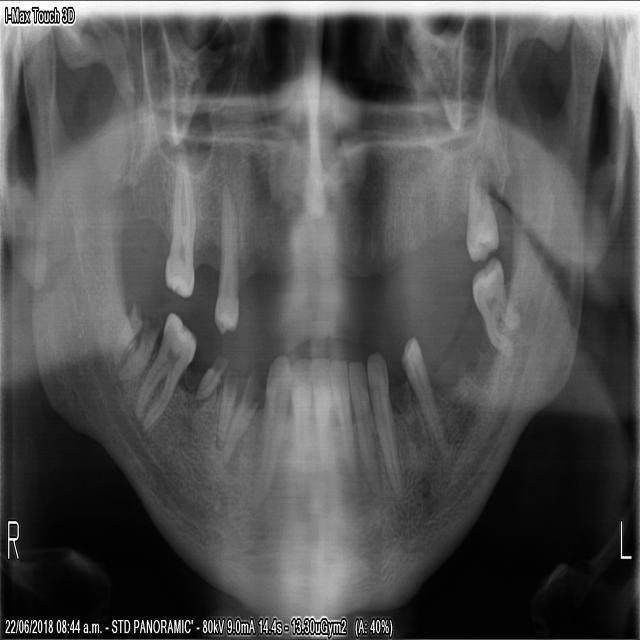LCD: (363, 346, 402, 512)
LID: (345, 355, 380, 498), (326, 355, 355, 483)
LMD: (468, 252, 519, 360)
LMU: (462, 156, 499, 265)
LPMD: (397, 331, 448, 462)
RCD: (251, 349, 290, 507)
RID: (284, 353, 310, 497), (308, 353, 330, 488)
RMD: (131, 307, 196, 429)
RMU: (160, 141, 196, 301)
RPMU: (209, 174, 239, 335)
